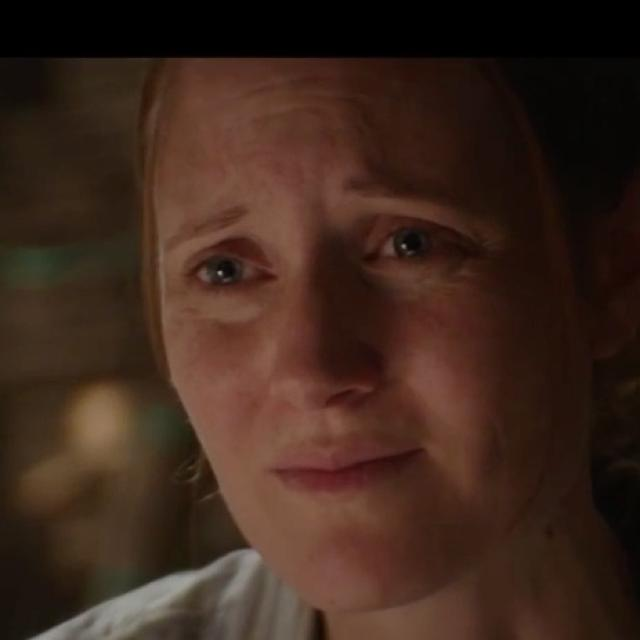Depress: (143, 55, 596, 625)
